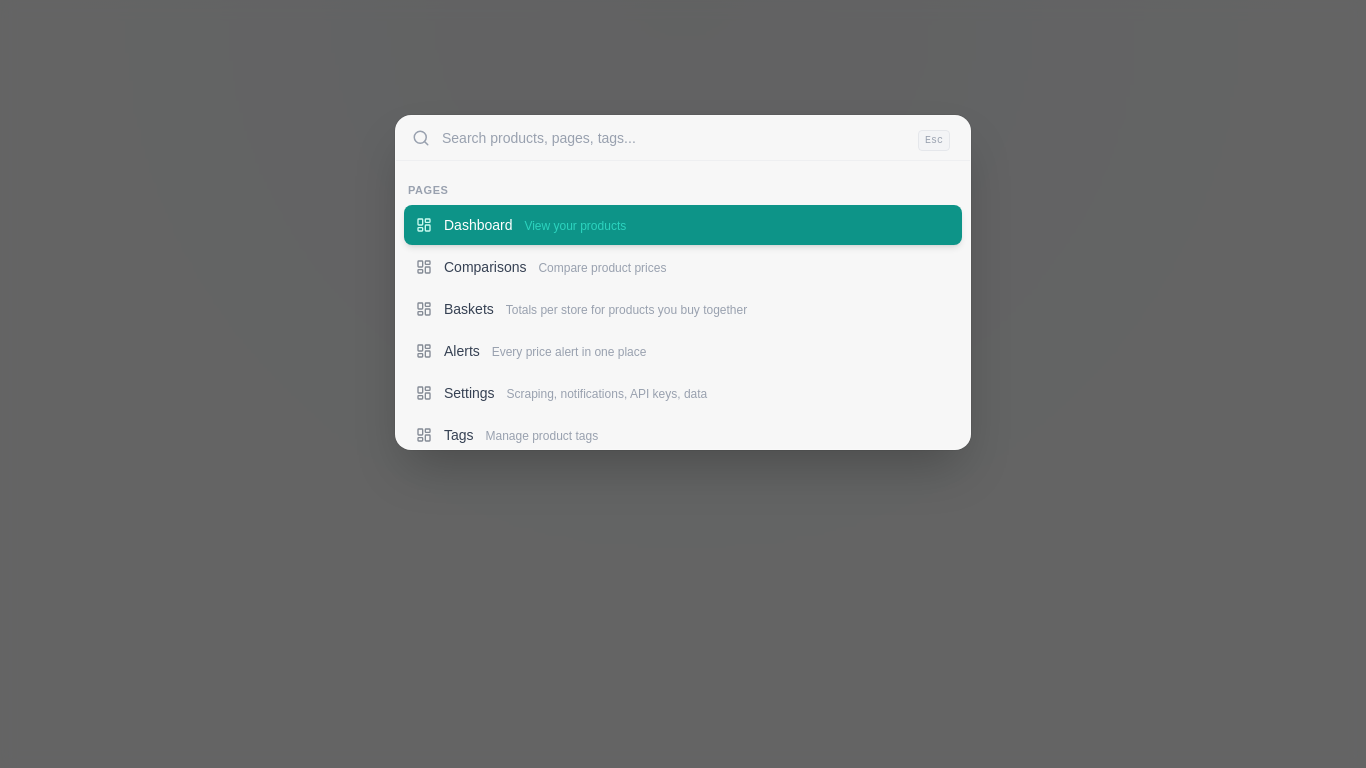
Test case: CommandPalette › dynamic search › should show product results when searching
The image size is (1366, 768).
Type "widget" into the field with placeholder "Search products, pages, tags..." at coordinates (672, 138), box 442,116 -> 902,160
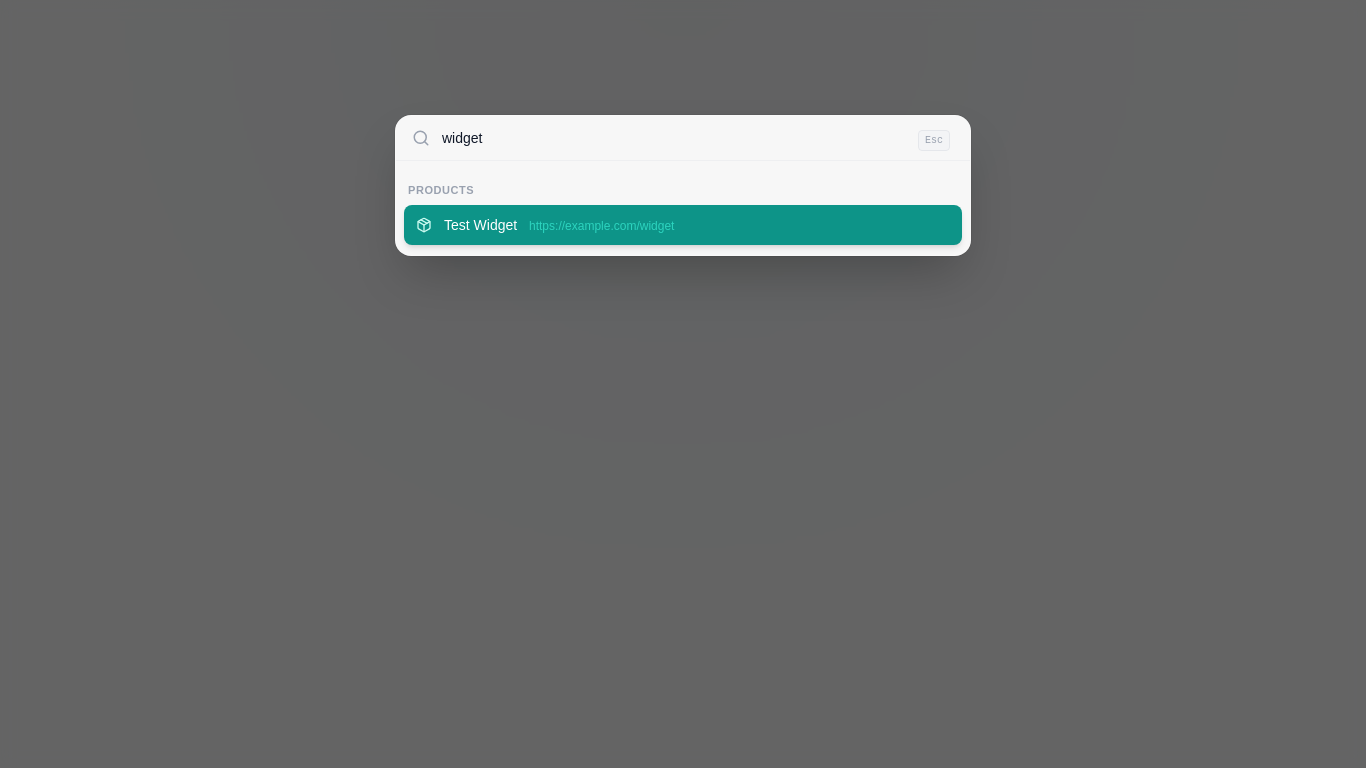
Result: the text "Test Widget" is shown at 444,217 -> 517,233
